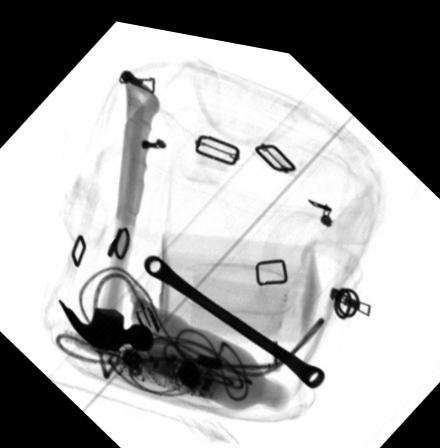Hammer: (61, 68, 161, 347)
Wrench: (144, 249, 326, 376)
